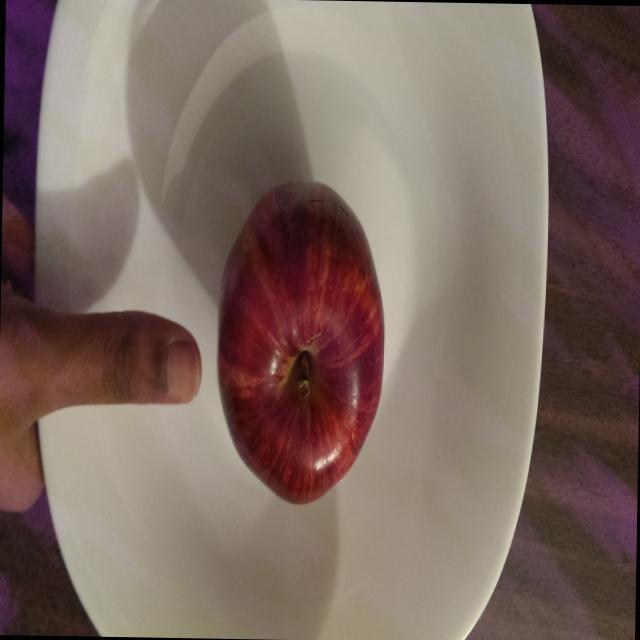Apple: (209, 170, 392, 510)
Finger: (79, 305, 207, 416)
